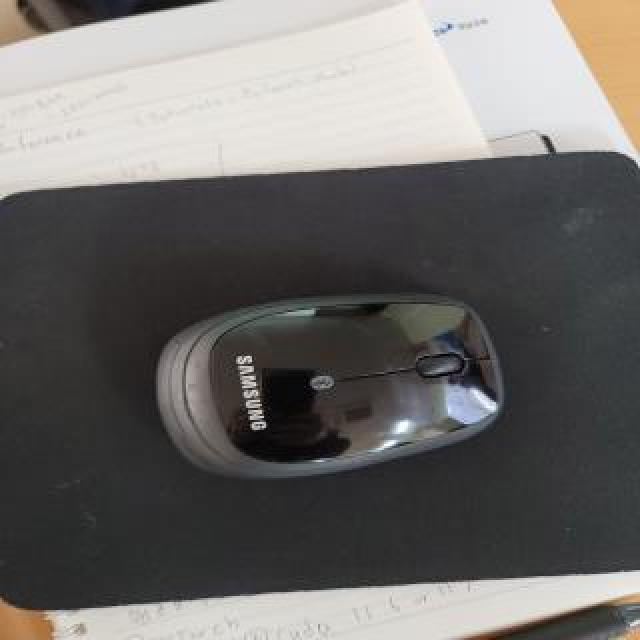mouse: (142, 286, 516, 492)
